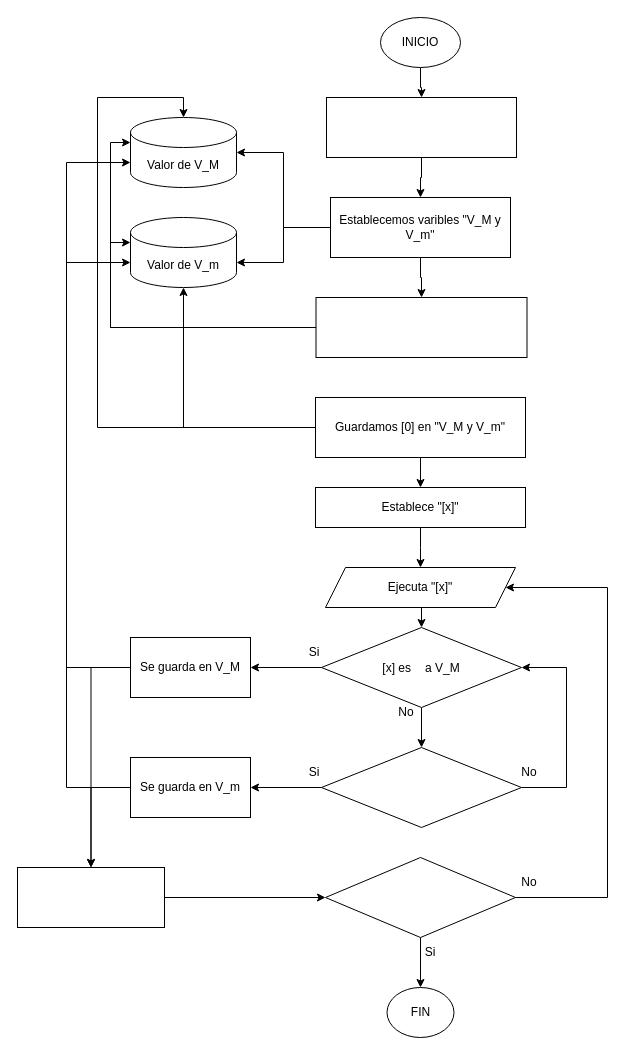
Some shapes in this 633 by 1055 pixel diagram are drawn without their labels. Here are the shapes that lost their labels. From the top down, the centre of each, then its label:
point (421, 127): Calificamos listas de "edades" asignado una posicion
point (421, 327): Establecemos "V_M = 0"; "V_m = 0"; "x = 0" y "x = x + 1"
point (421, 787): [x] es ≤ a V_m
point (90, 897): Establece "[x]" genere posicion sin valor en lista = [Error]
point (420, 897): El valor "[x]" es = [Error]
